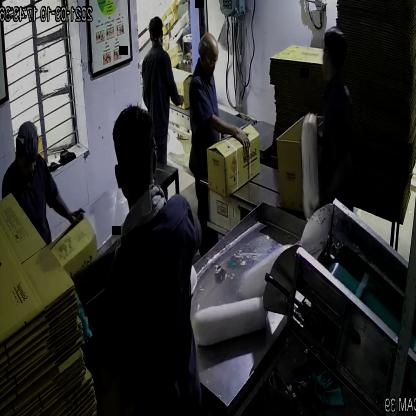no_glove: (203, 106, 259, 156), (47, 177, 84, 239)
